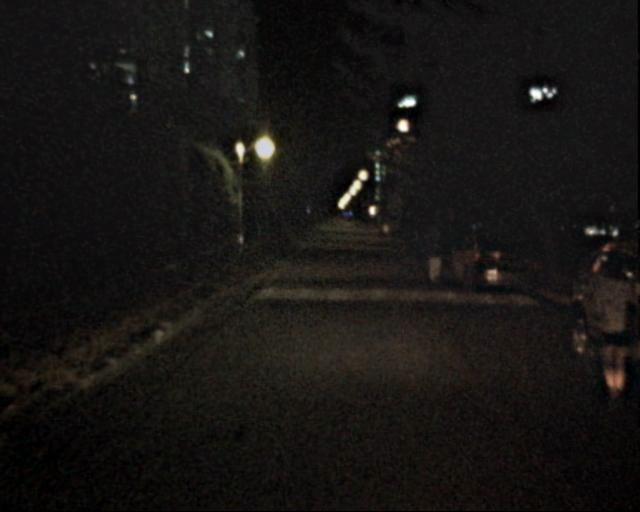person: (566, 248, 640, 408), (421, 222, 445, 284), (409, 227, 427, 271)
